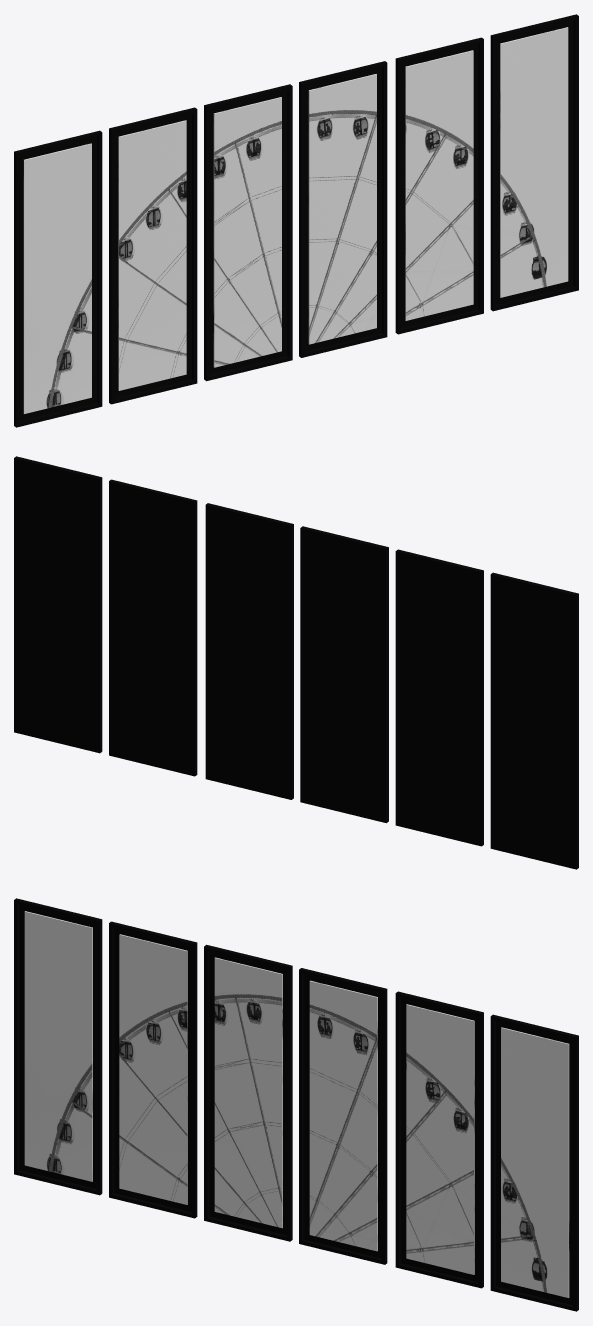
Rendered from merry go round.obj.
The picture shows the model from 3 angles, top to bottom: view 1: azimuth 30°, elevation 25°; view 2: azimuth 150°, elevation 25°; view 3: azimuth 330°, elevation 25°; orthographic projection.
Parts seen in each view (by area): view 1: merry_go_round:poster_2, merry_go_round:poster_5, merry_go_round:poster_1, merry_go_round:poster_3, merry_go_round:poster6, merry_go_round:poster_4, merry_go_round:frame_2, merry_go_round:frame_5, merry_go_round:frame_1, merry_go_round:frame_6, merry_go_round:frame_4, merry_go_round:frame_3; view 2: merry_go_round:frame_5, merry_go_round:frame_2, merry_go_round:frame_3, merry_go_round:frame_1, merry_go_round:frame_6, merry_go_round:frame_4; view 3: merry_go_round:poster_2, merry_go_round:poster_5, merry_go_round:poster_4, merry_go_round:poster6, merry_go_round:poster_1, merry_go_round:poster_3, merry_go_round:frame_5, merry_go_round:frame_2, merry_go_round:frame_1, merry_go_round:frame_6, merry_go_round:frame_3, merry_go_round:frame_4.
Part boxes in pixels (bbox=[...]): merry_go_round:poster_2: bbox=[118, 120, 186, 390]; merry_go_round:poster_5: bbox=[405, 50, 473, 320]; merry_go_round:poster_1: bbox=[23, 143, 91, 413]; merry_go_round:poster_3: bbox=[213, 97, 281, 367]; merry_go_round:poster6: bbox=[500, 27, 568, 297]; merry_go_round:poster_4: bbox=[308, 74, 376, 344]; merry_go_round:frame_2: bbox=[109, 107, 197, 404]; merry_go_round:frame_5: bbox=[395, 37, 483, 334]; merry_go_round:frame_1: bbox=[14, 130, 102, 427]; merry_go_round:frame_6: bbox=[490, 14, 578, 311]; merry_go_round:frame_4: bbox=[299, 61, 387, 357]; merry_go_round:frame_3: bbox=[204, 84, 292, 381]; merry_go_round:frame_5: bbox=[109, 479, 197, 776]; merry_go_round:frame_2: bbox=[395, 549, 483, 846]; merry_go_round:frame_3: bbox=[300, 526, 388, 823]; merry_go_round:frame_1: bbox=[490, 572, 578, 869]; merry_go_round:frame_6: bbox=[14, 456, 102, 753]; merry_go_round:frame_4: bbox=[205, 503, 293, 799]; merry_go_round:poster_2: bbox=[119, 934, 187, 1204]; merry_go_round:poster_5: bbox=[406, 1004, 474, 1274]; merry_go_round:poster_4: bbox=[309, 980, 377, 1251]; merry_go_round:poster6: bbox=[501, 1027, 569, 1297]; merry_go_round:poster_1: bbox=[24, 911, 92, 1181]; merry_go_round:poster_3: bbox=[214, 957, 282, 1228]; merry_go_round:frame_5: bbox=[395, 991, 483, 1288]; merry_go_round:frame_2: bbox=[109, 921, 197, 1218]; merry_go_round:frame_1: bbox=[14, 898, 102, 1195]; merry_go_round:frame_6: bbox=[490, 1014, 578, 1311]; merry_go_round:frame_3: bbox=[204, 944, 292, 1241]; merry_go_round:frame_4: bbox=[299, 968, 387, 1264].
Bounding box in the file's own units: 18.13 × 8.45 × 0.1333.
Materials: 1 (1 with a texture image).
